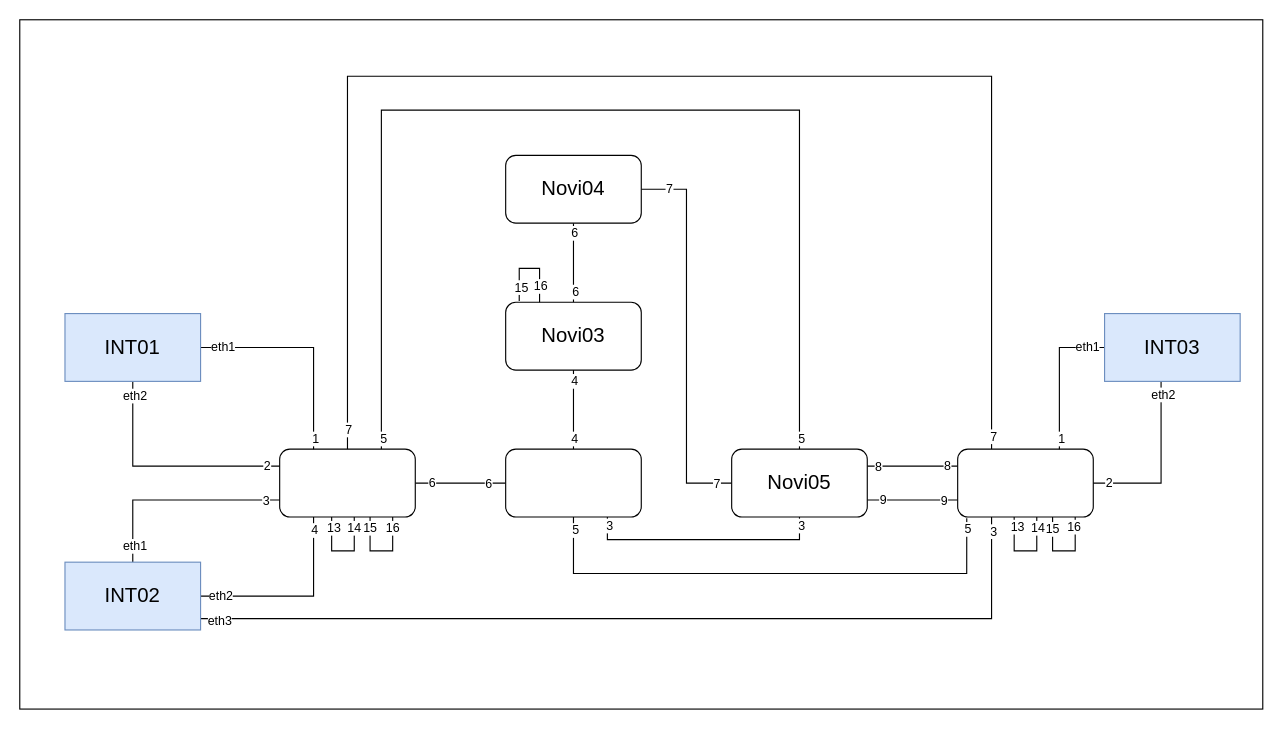
Image size: 1283x729. Some labels were removed from this diagram. Each missing label, with the centre of its shape:
Novi01: the point at 347,482
Novi02: the point at 573,482
Novi06: the point at 1025,482
